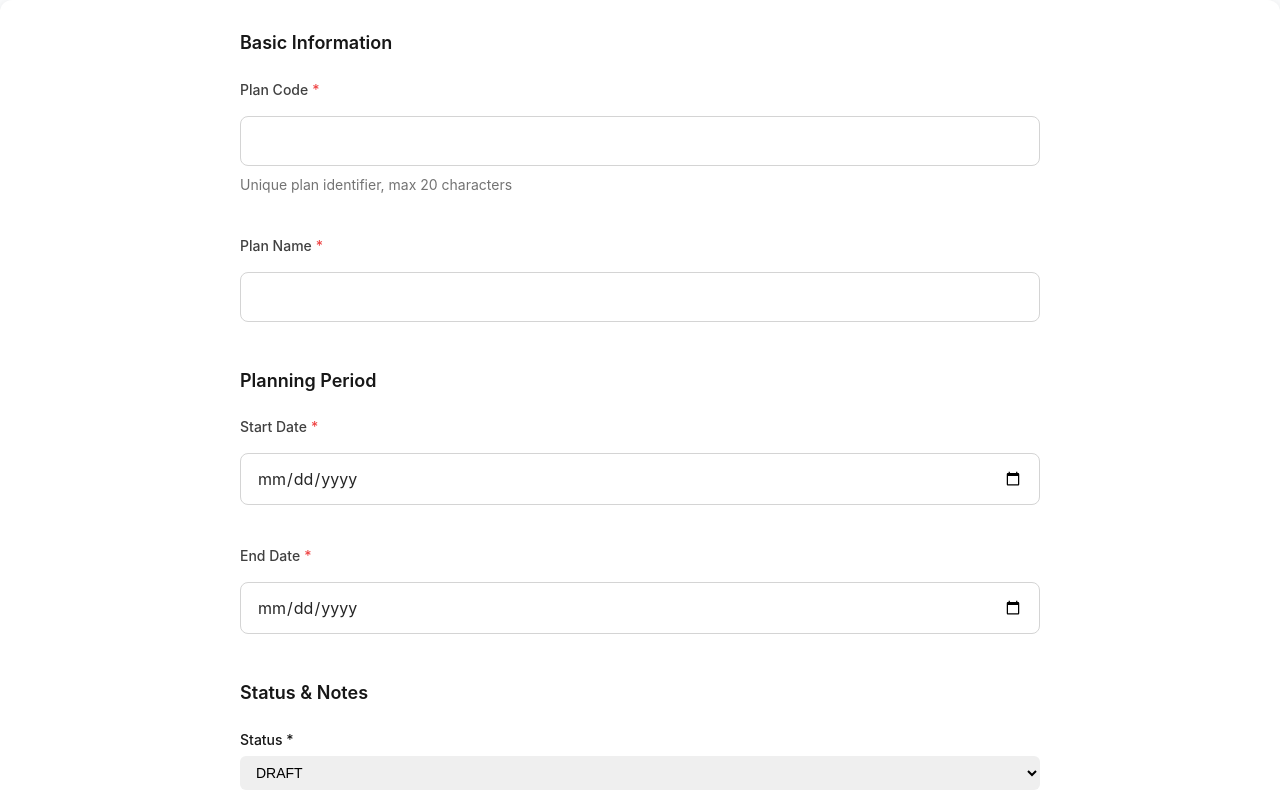
ProductionPlanForm - Create Mode › should validate date range (end date >= start date)
In the field labelled "Plan Code*": point(640, 140) [240,116,1040,166], type "PLAN001"
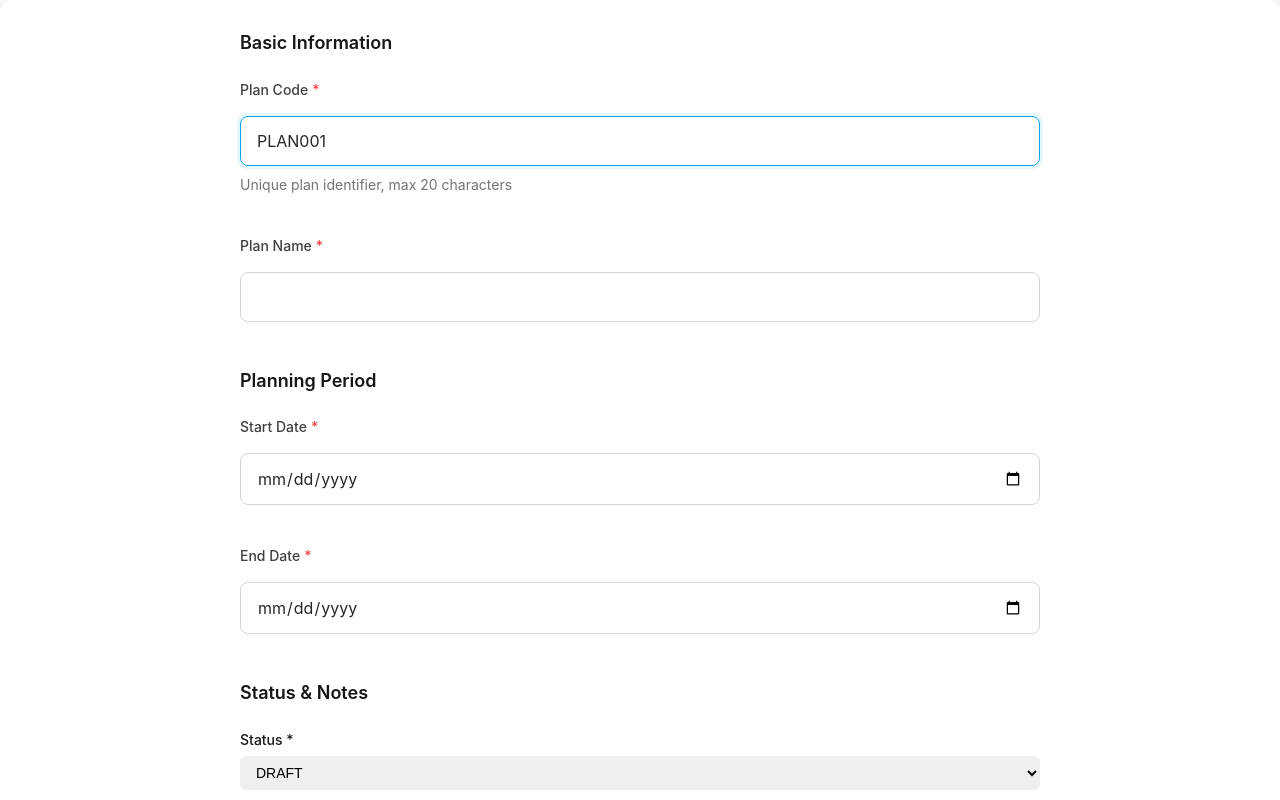
In the field labelled "Plan Name*": point(640, 296) [240,272,1040,322], type "Test Plan"
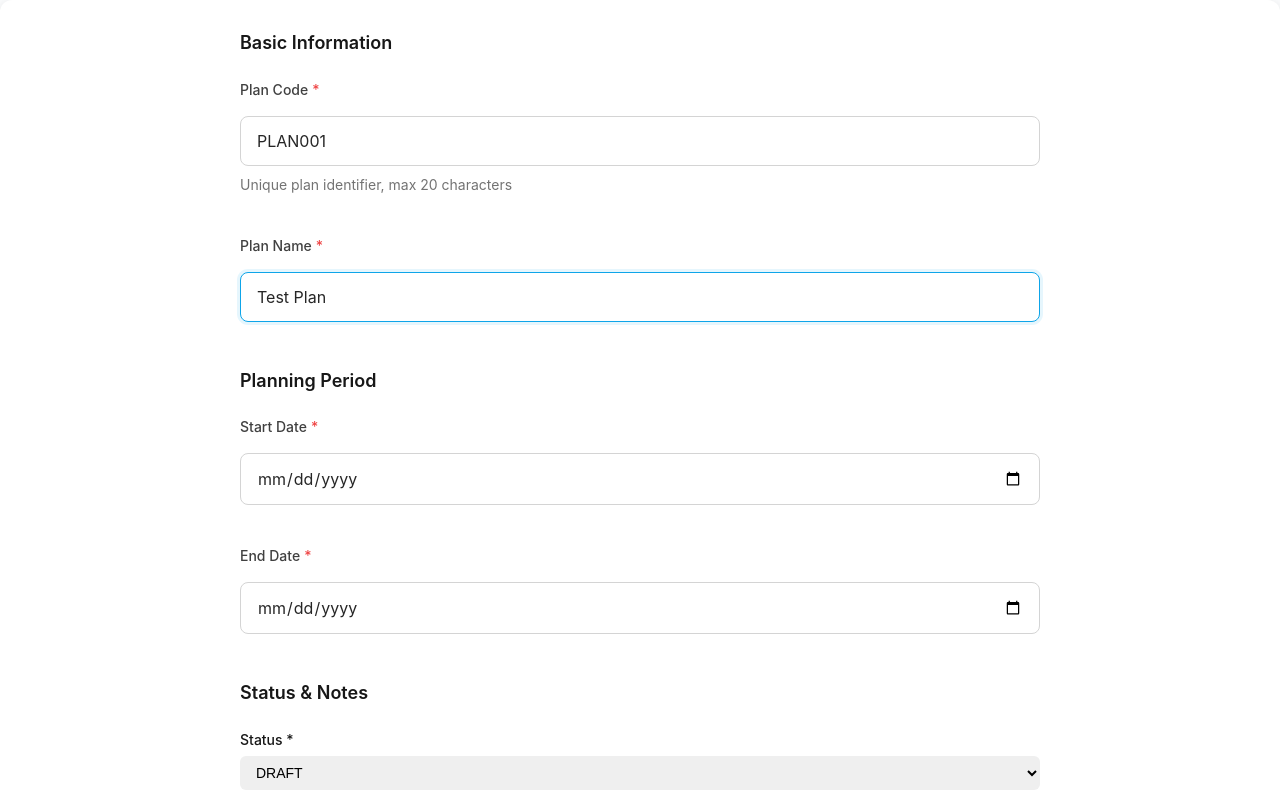
In the date field labelled "Start Date*": point(640, 479) [240,453,1040,505], type "2024-06-01"
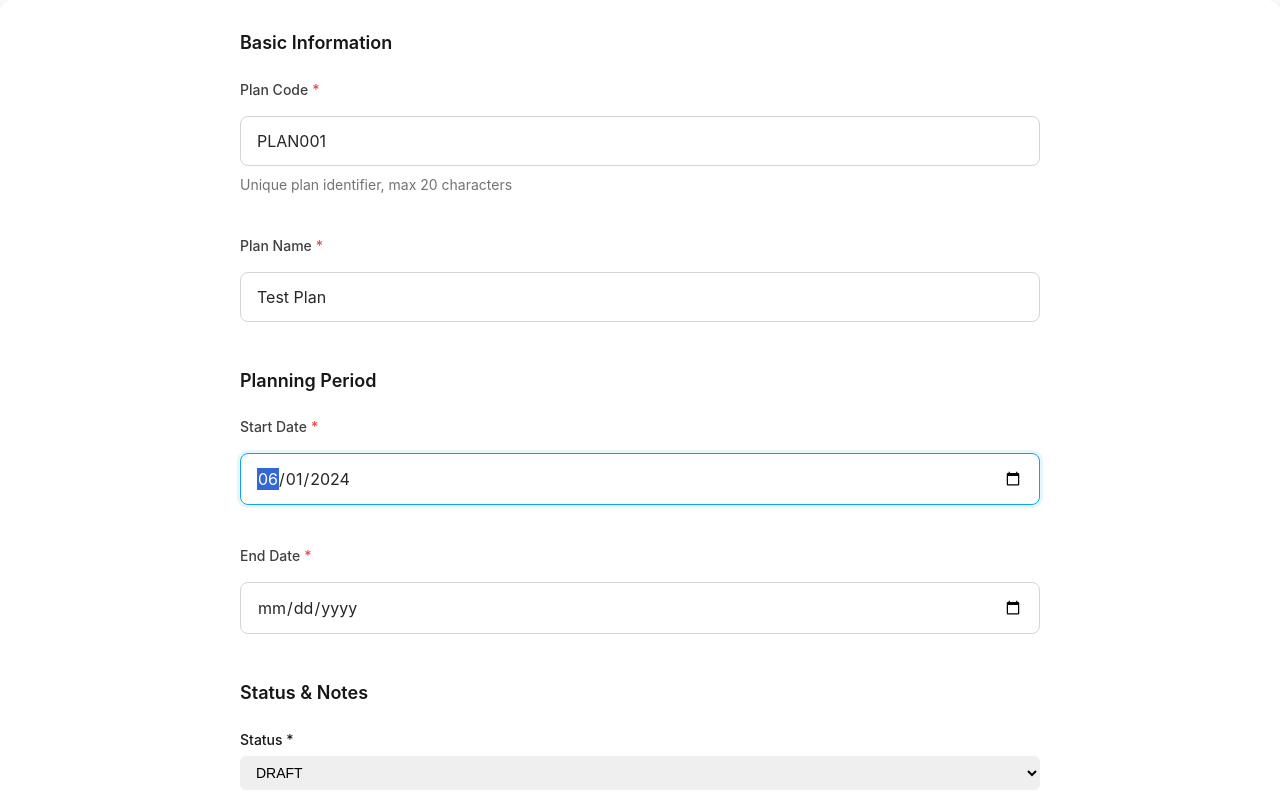
In the date field labelled "End Date*": point(640, 608) [240,582,1040,634], type "2024-01-01"
(page scrolled)
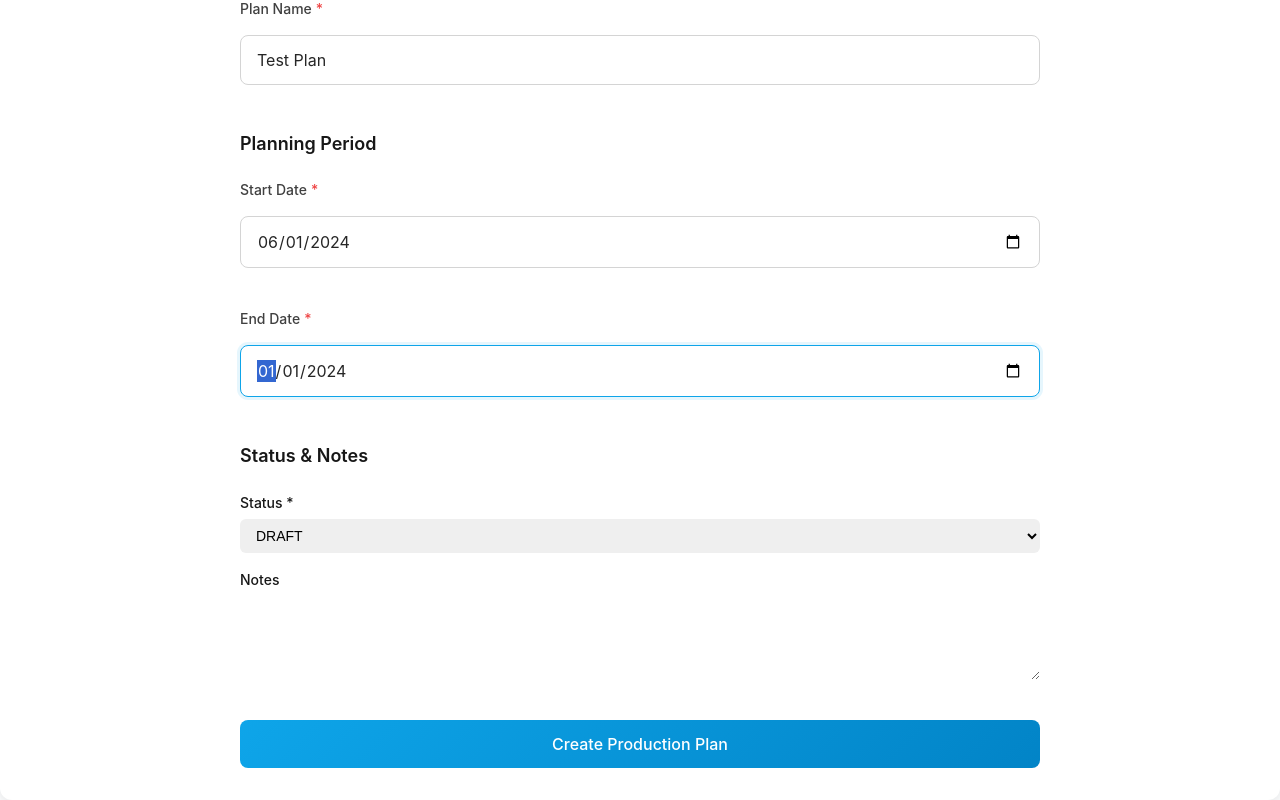
Click the button "Create Production Plan": point(640, 744) [240,720,1040,768]
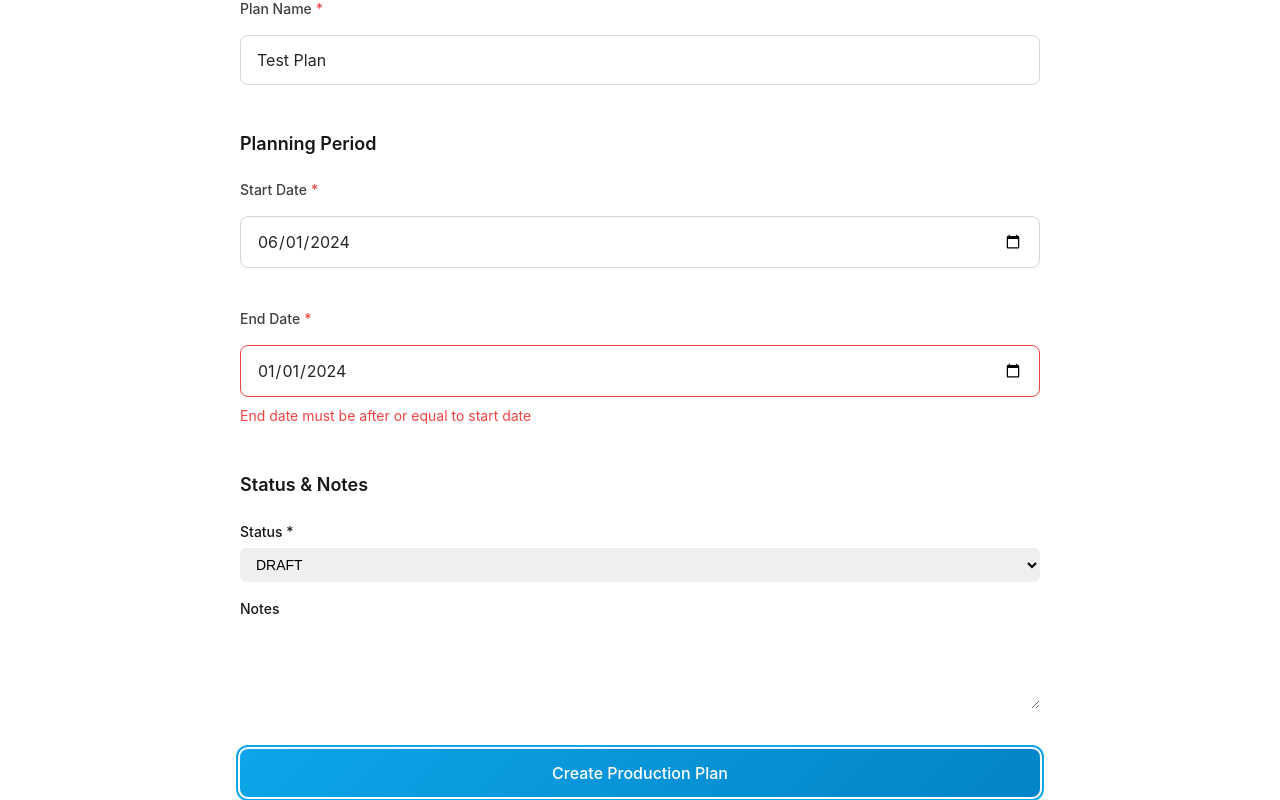
Expected: the text "End date must be after or equal to start date" is shown, [240,407,531,424]
